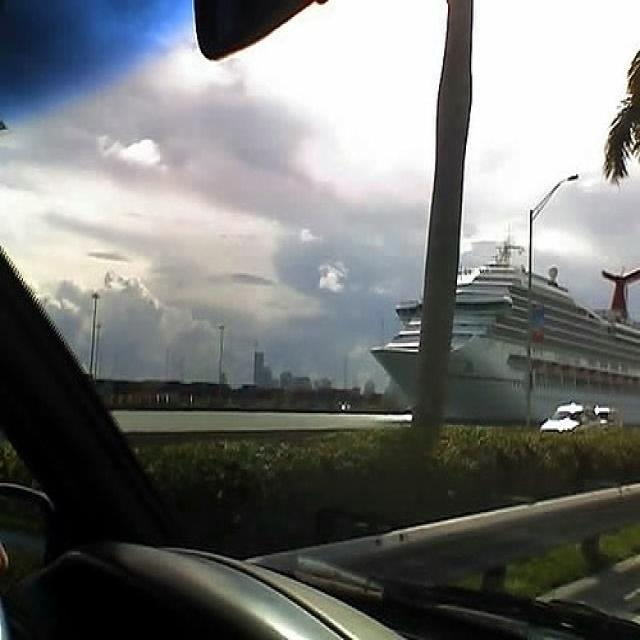boat: (371, 243, 640, 426)
car: (540, 404, 590, 434)
